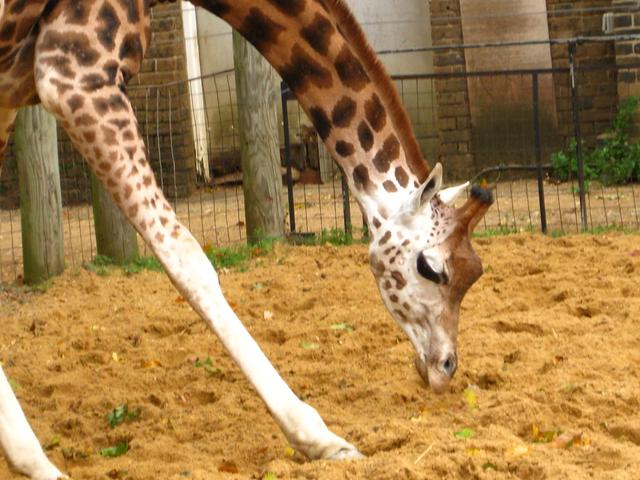giraffe: (1, 1, 617, 410)
